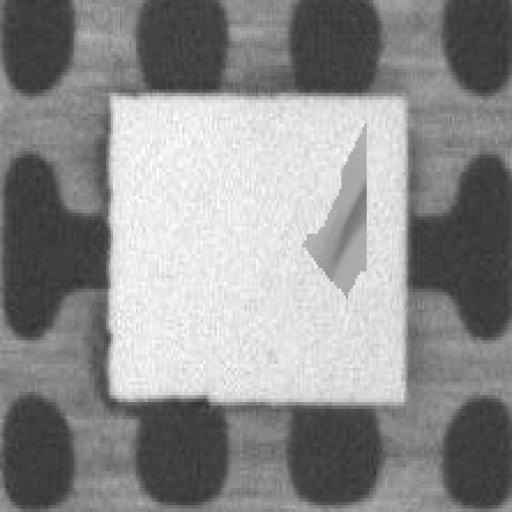DIE_INK: (300, 117, 364, 292)
